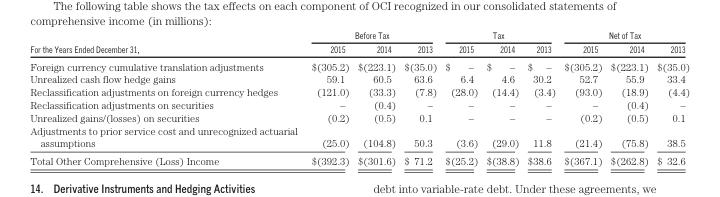table: (29, 29, 689, 166)
table column: (29, 29, 303, 166), (303, 29, 352, 166), (352, 29, 399, 166), (605, 29, 652, 166), (559, 29, 605, 166), (399, 29, 440, 166), (440, 29, 481, 166), (481, 29, 522, 166), (522, 29, 559, 166), (652, 29, 689, 166)
table column header: (29, 29, 689, 57)
table row: (29, 123, 689, 151), (29, 41, 689, 57), (29, 57, 689, 72), (29, 151, 689, 166), (29, 72, 689, 85), (29, 97, 689, 110), (29, 110, 689, 123), (29, 29, 689, 41), (29, 85, 689, 97)
table spanning cell: (29, 29, 303, 57), (303, 29, 440, 41), (559, 29, 689, 41), (440, 29, 559, 41)
